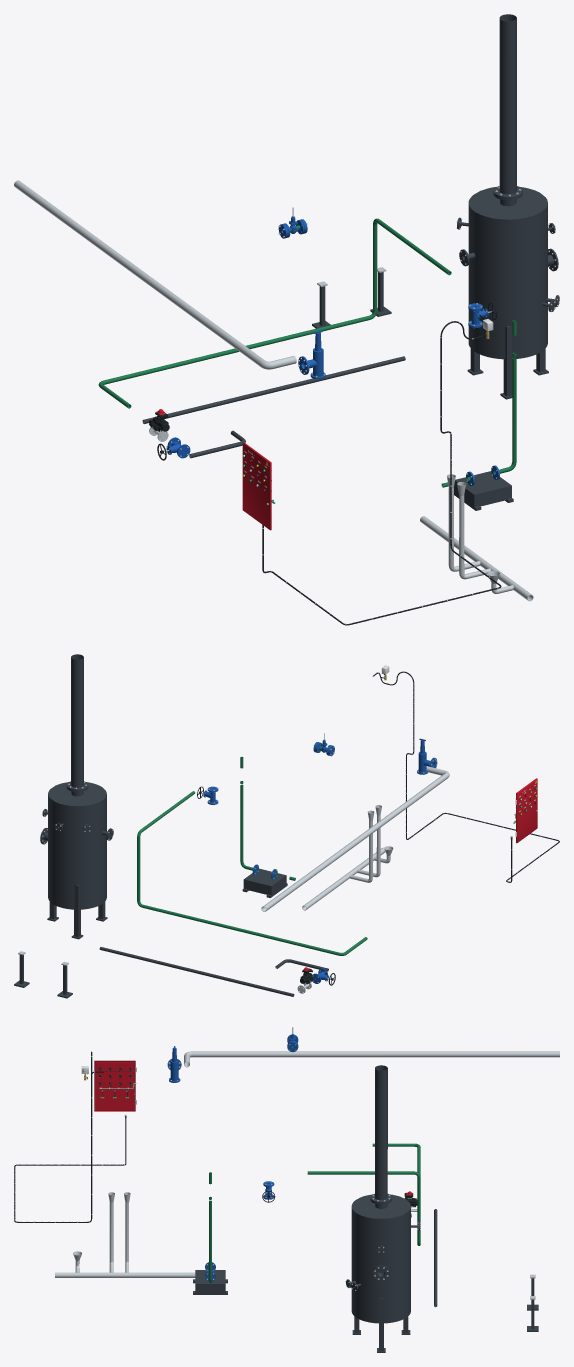
The picture shows the model from 3 angles, top to bottom: view 1: azimuth 30°, elevation 25°; view 2: azimuth 150°, elevation 25°; view 3: azimuth 270°, elevation 25°; orthographic projection. The views are drawn at different scales.
Visible parts, largest first — view 1: separator_bdv60_5 / dark, bdv_vent / dark, safety_vent_2 / steel, local_open_drains / steel, to_economizer / green, cabinet_door / cabinet_door_5.npz, pump_branch_1 / dark, wiring_pressure_switch_3 / black, bottom_discharge / dark, pump_branch_1 / green; view 2: separator_bdv60_5 / dark, bdv_vent / dark, safety_vent_2 / steel, to_economizer / green, local_open_drains / steel, cabinet_door / cabinet_door_5.npz, pump_branch_1 / dark, bottom_discharge / dark, wiring_pressure_switch_3 / black, pump_branch_1 / green, trap_support / dark; view 3: separator_bdv60_5 / dark, safety_vent_2 / steel, cabinet_door / cabinet_door_5.npz, bdv_vent / dark, local_open_drains / steel, to_economizer / green, wiring_pressure_switch_3 / black, pump_branch_1 / dark.
Part boxes in pixels (x1,y1,x2,y2): separator_bdv60_5 / dark: [457, 187, 559, 399]; bdv_vent / dark: [493, 14, 522, 198]; safety_vent_2 / steel: [14, 180, 296, 369]; local_open_drains / steel: [420, 474, 533, 601]; to_economizer / green: [98, 218, 451, 408]; cabinet_door / cabinet_door_5.npz: [242, 442, 271, 530]; pump_branch_1 / dark: [454, 471, 513, 510]; wiring_pressure_switch_3 / black: [262, 315, 501, 625]; bottom_discharge / dark: [142, 356, 405, 423]; pump_branch_1 / green: [441, 320, 516, 487]; separator_bdv60_5 / dark: [40, 782, 113, 939]; bdv_vent / dark: [66, 654, 88, 790]; safety_vent_2 / steel: [261, 766, 449, 911]; to_economizer / green: [137, 791, 367, 955]; local_open_drains / steel: [302, 805, 393, 910]; cabinet_door / cabinet_door_5.npz: [515, 778, 537, 843]; pump_branch_1 / dark: [242, 868, 287, 897]; bottom_discharge / dark: [99, 947, 294, 996]; wiring_pressure_switch_3 / black: [372, 671, 559, 882]; pump_branch_1 / green: [240, 756, 295, 880]; trap_support / dark: [14, 955, 72, 998]; separator_bdv60_5 / dark: [345, 1194, 419, 1352]; safety_vent_2 / steel: [184, 1051, 559, 1067]; cabinet_door / cabinet_door_5.npz: [94, 1060, 136, 1111]; bdv_vent / dark: [370, 1065, 392, 1203]; local_open_drains / steel: [55, 1192, 195, 1277]; to_economizer / green: [307, 1143, 420, 1245]; wiring_pressure_switch_3 / black: [14, 1051, 126, 1222]; pump_branch_1 / dark: [193, 1270, 227, 1294].
Size of the model in its own units: 5.32 by 3.99 by 7.03.
